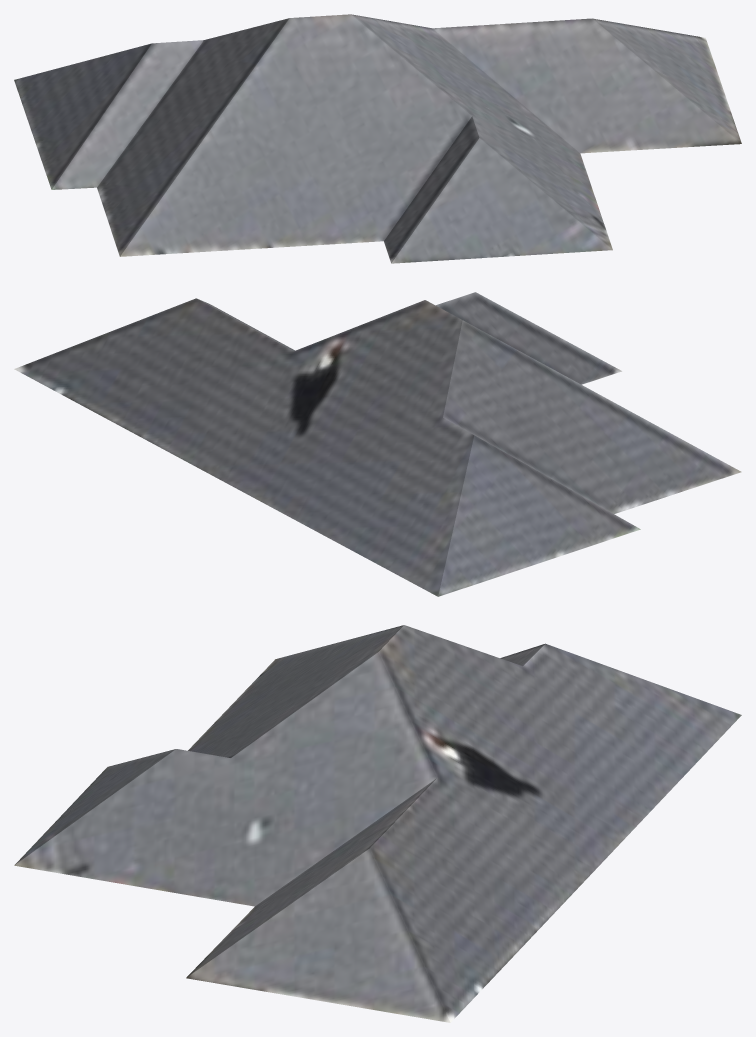
The model's file is CG10_500_040073_0024_roof.obj.
3 renders of one model, top to bottom at view 1: azimuth 30°, elevation 25°; view 2: azimuth 150°, elevation 25°; view 3: azimuth 270°, elevation 25°, orthographic. The views are drawn at different scales.
Visible parts, largest first — view 1: CG10_500_040073_0024_roof; view 2: CG10_500_040073_0024_roof; view 3: CG10_500_040073_0024_roof.
Part boxes in pixels (x1,y1,x2,y2): CG10_500_040073_0024_roof: (14,14,741,263); CG10_500_040073_0024_roof: (14,292,741,596); CG10_500_040073_0024_roof: (14,625,741,1022).
Bounding box in the file's own units: 344 × 70 × 291.
Materials: 1 (1 with a texture image).
